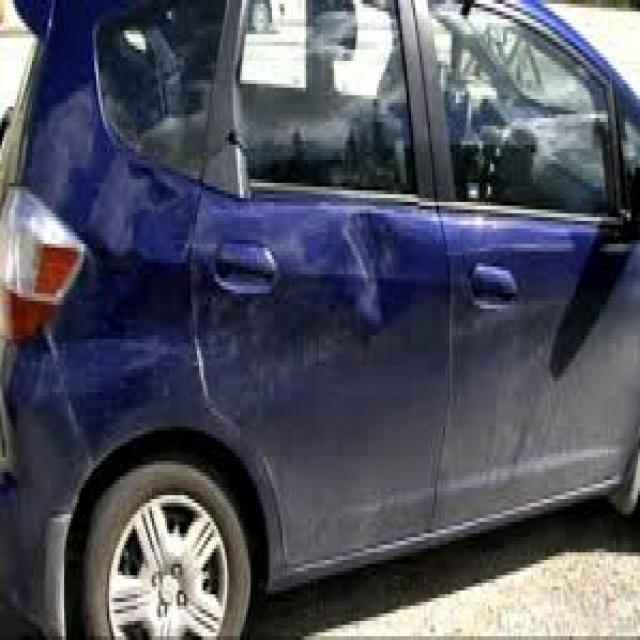minor: (42, 156, 398, 360)
